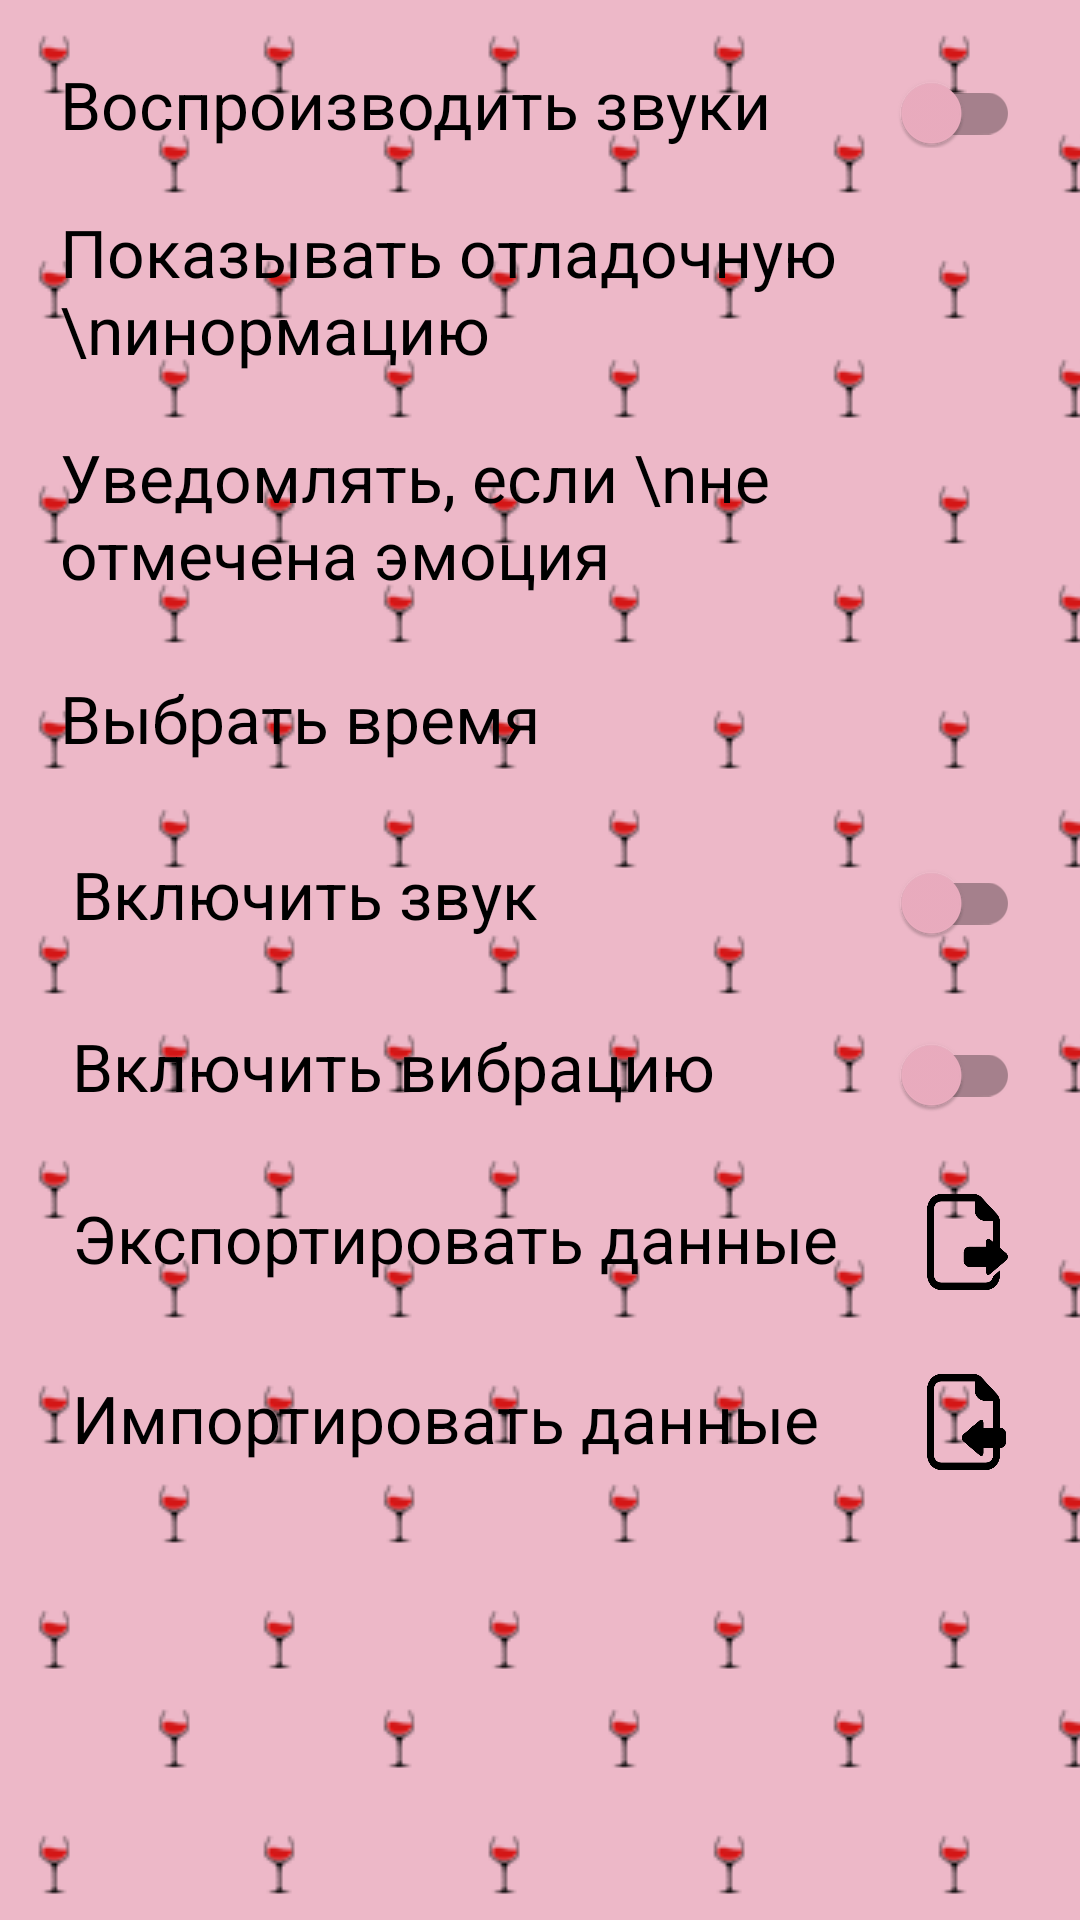

Named icons in this screenshot (1080 x 1920) and their centers, (x,y):
export: (967,1236)
import: (966,1422)
